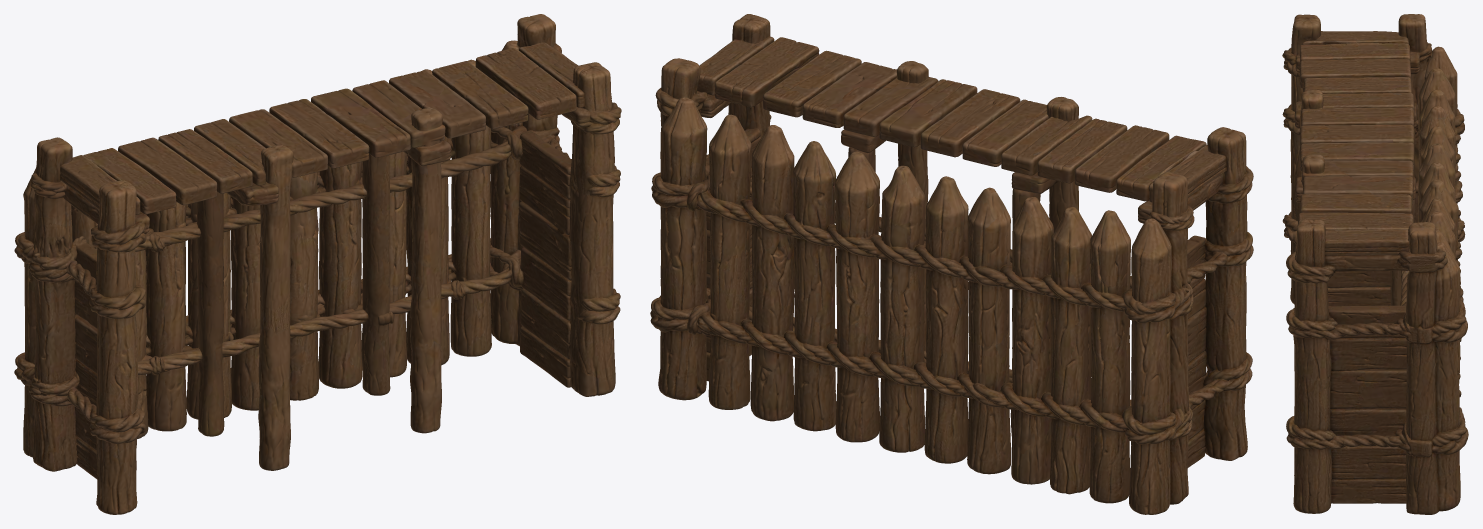
The model's file is wall_small.glb.
The picture shows the model from 3 angles, left to right: view 1: azimuth 30°, elevation 25°; view 2: azimuth 150°, elevation 25°; view 3: azimuth 270°, elevation 25°; orthographic projection. The views are drawn at different scales.
Size of the model in its own units: 1.9 by 1.11 by 0.6607.
Materials: 1 (1 with a texture image).
